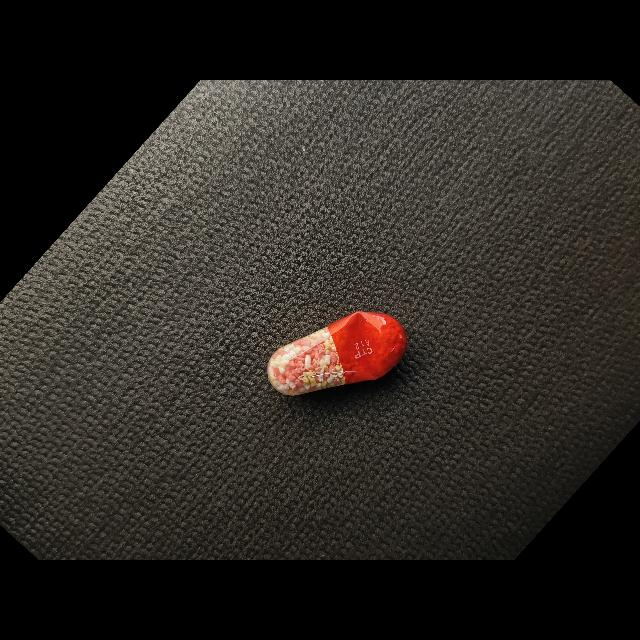Defective Capsule: (267, 311, 407, 396)
